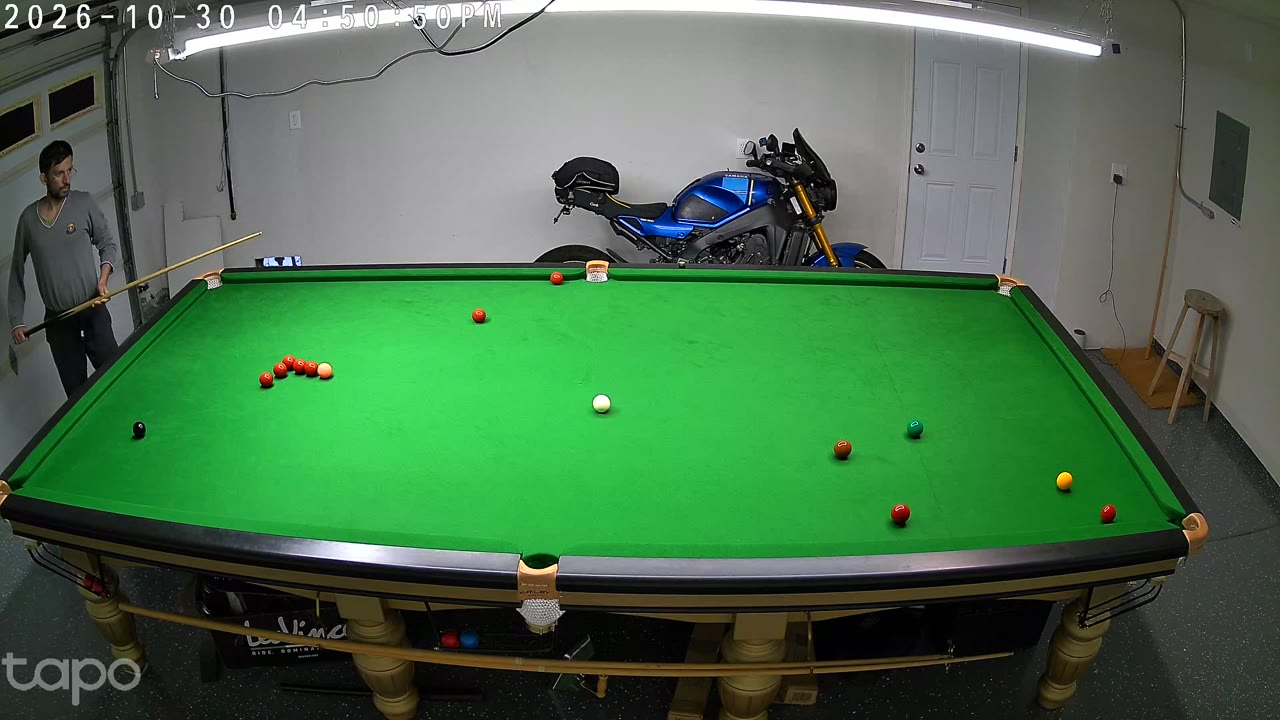black: (133, 420, 146, 440)
brown: (834, 438, 852, 461)
green: (907, 417, 923, 441)
pink: (319, 361, 331, 381)
red: (890, 501, 910, 528), (1100, 502, 1116, 527), (274, 362, 286, 381), (473, 307, 485, 326), (260, 371, 272, 389), (305, 360, 317, 378), (284, 354, 295, 372), (295, 358, 305, 376), (551, 271, 562, 287)
white: (593, 393, 609, 415)
yellow: (1056, 470, 1073, 494)
